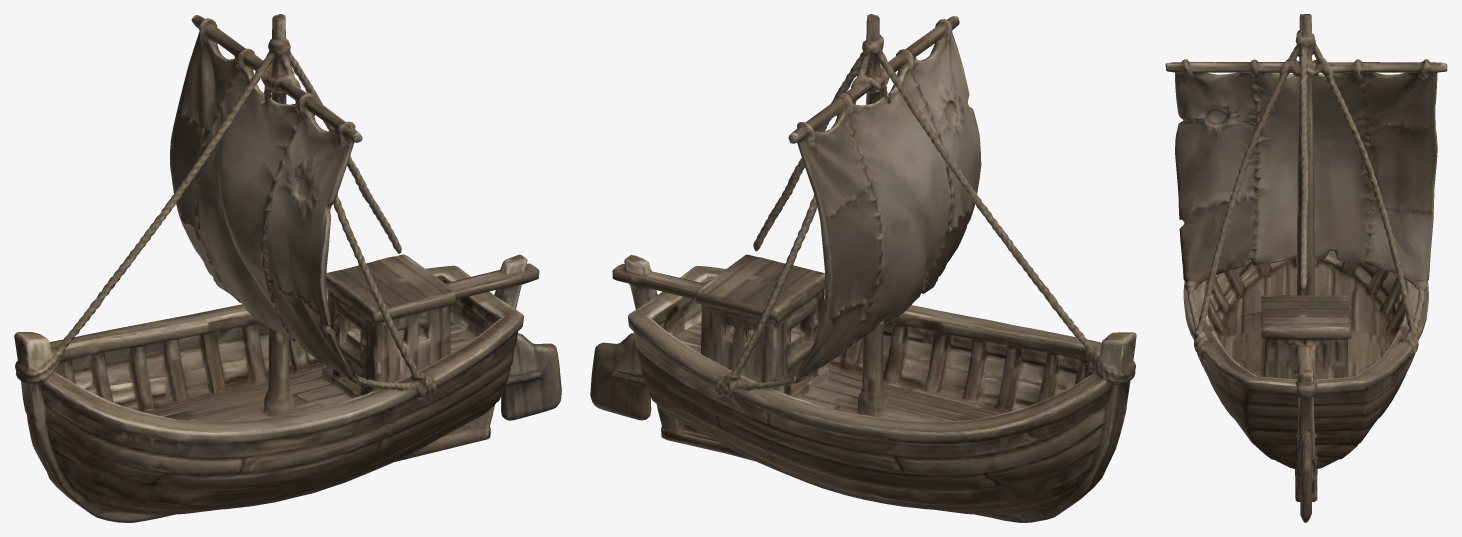
The model's file is ship.glb.
The picture shows the model from 3 angles, left to right: view 1: azimuth 30°, elevation 25°; view 2: azimuth 150°, elevation 25°; view 3: azimuth 270°, elevation 25°; orthographic projection. The views are drawn at different scales.
Visible parts, largest first — view 1: Mesh_0; view 2: Mesh_0; view 3: Mesh_0.
Part boxes in pixels (x1,y1,x2,y2): Mesh_0: (14,14,561,522); Mesh_0: (590,14,1136,522); Mesh_0: (1165,14,1447,522).
Size of the model in its own units: 1.9 by 1.57 by 0.9974.
1 material, 1 textured.
